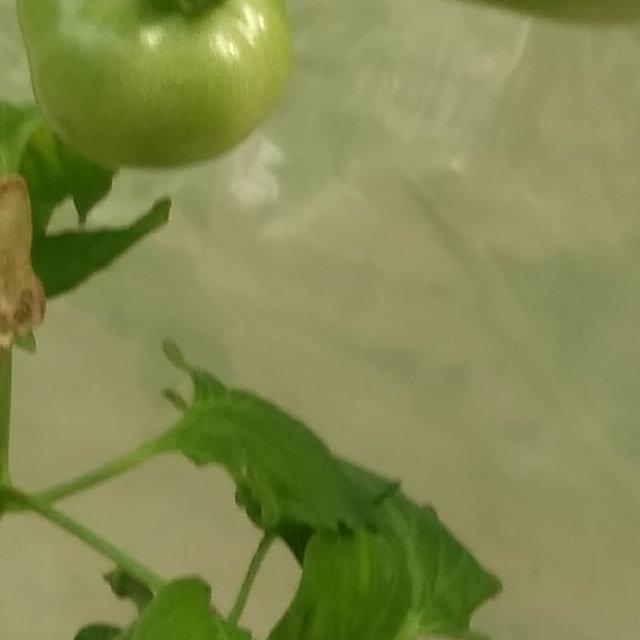tomato: (20, 0, 640, 280)
